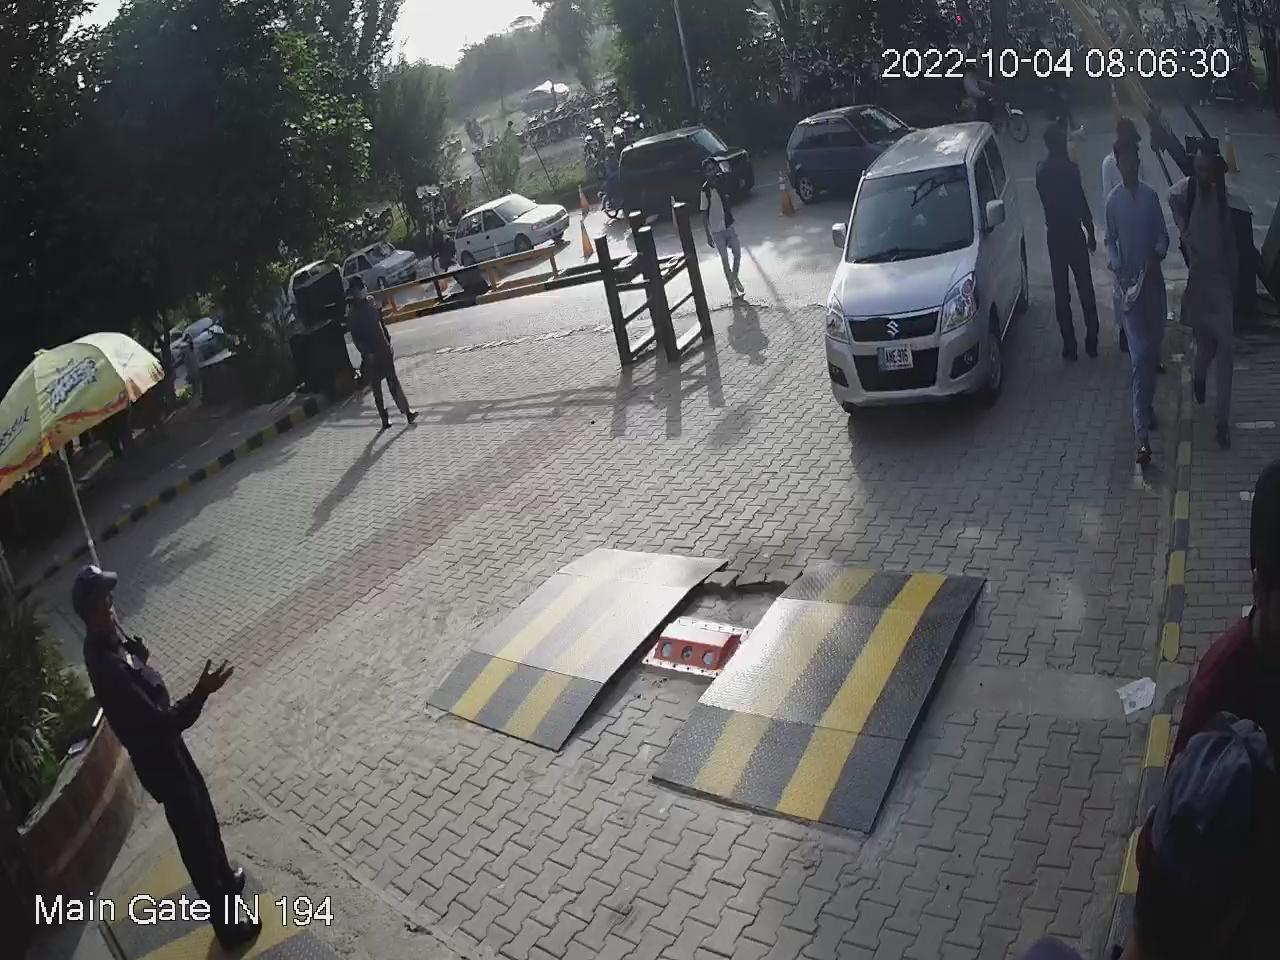windshield: (848, 155, 978, 265)
